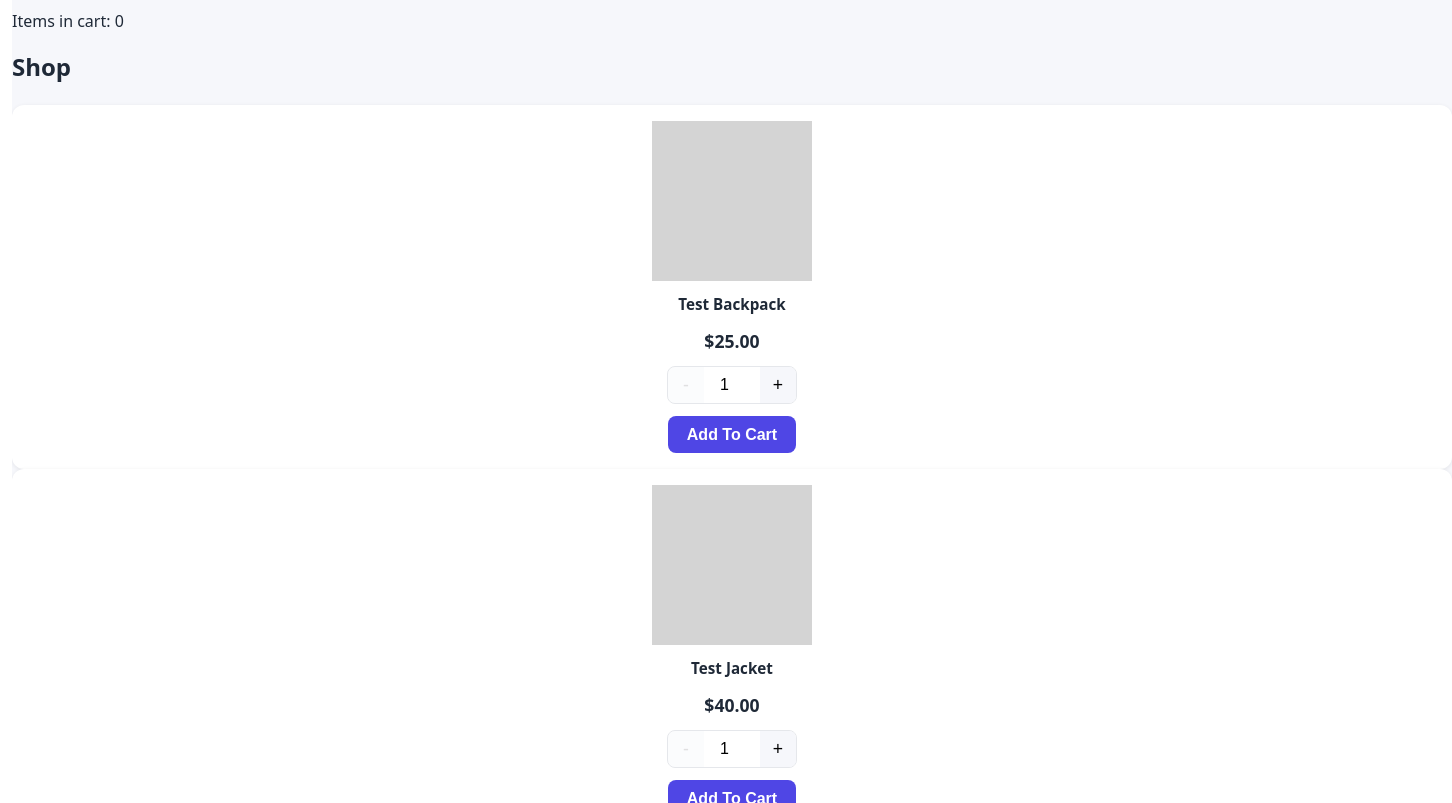
Shop page › adds products to the cart with the chosen quantity
The width and height of the screenshot is (1452, 803).
Check: the heading "Test Backpack" is shown, box [678,293,786,316]
Check: the text "Items in cart: 0" is shown, box [12,10,124,32]
Click the button "Add To Cart" below "25.00" at (732, 435), box [668,416,796,453]
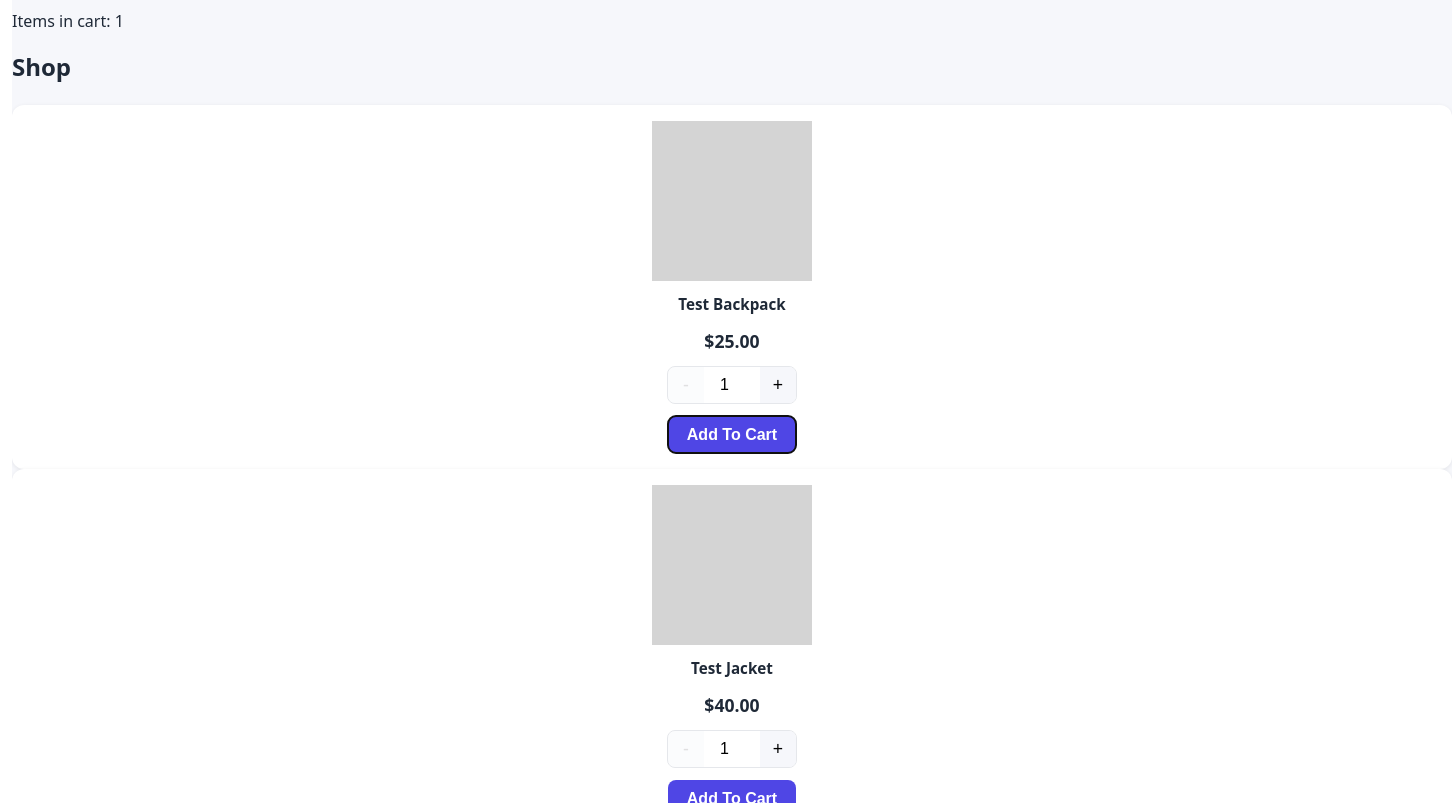
Check: the text "Items in cart: 1" is shown, box [12,10,124,32]
Click the button named "increase quantity" at (778, 750), box [760,732,796,768]
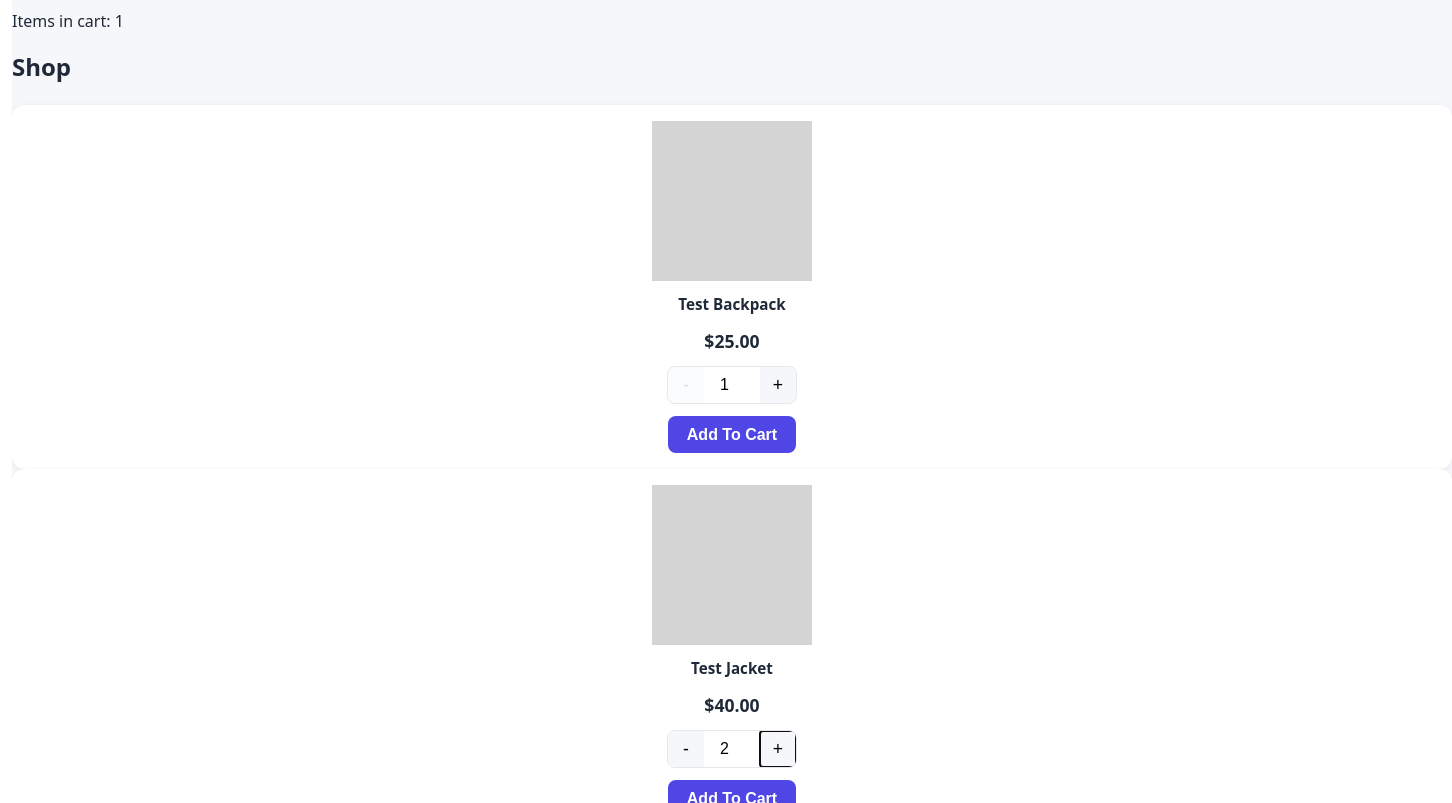
Click the button named "increase quantity" at (778, 750), box [760,732,796,768]
(page scrolled)
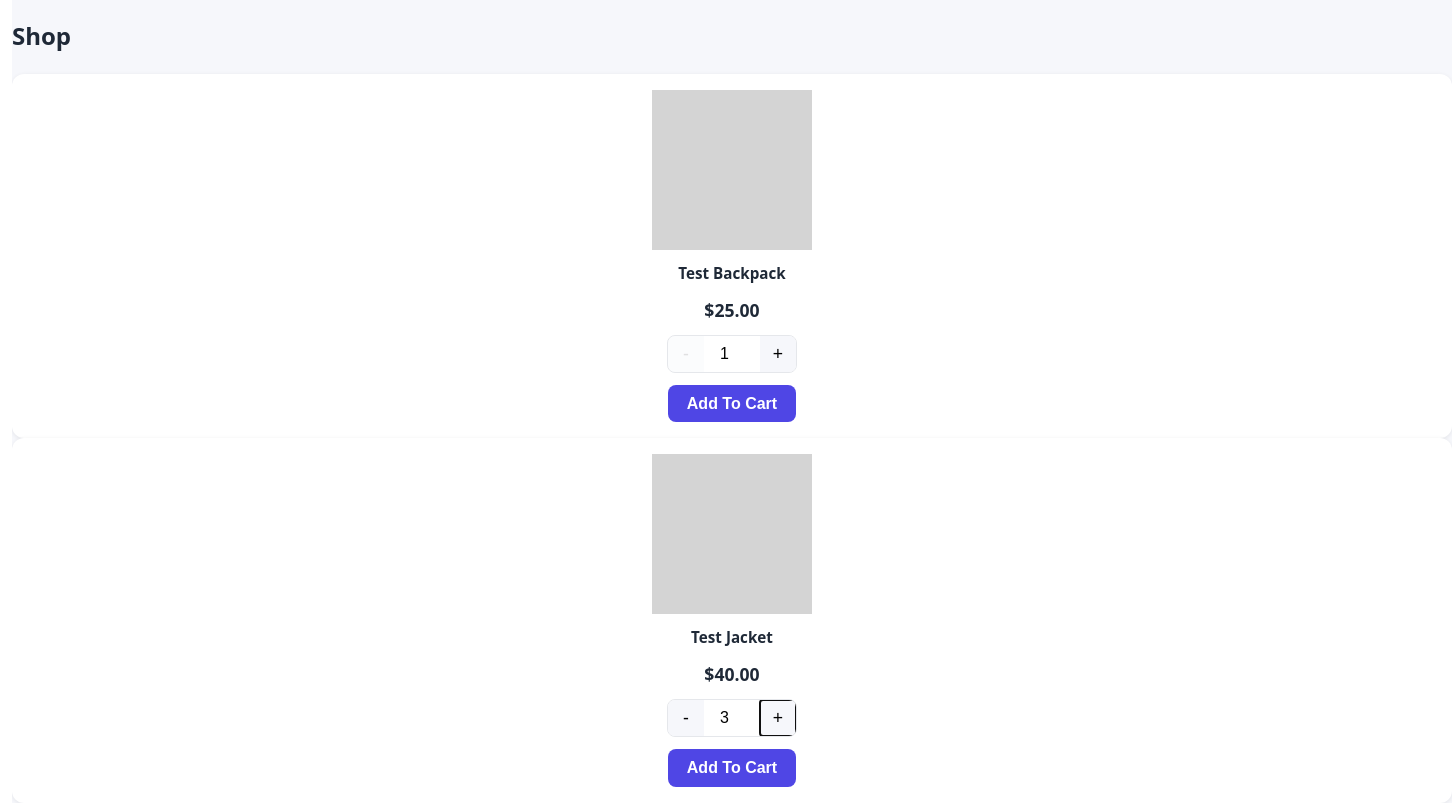
Click the button "Add To Cart" below "40.00" at (732, 768), box [668,750,796,787]
(page scrolled)
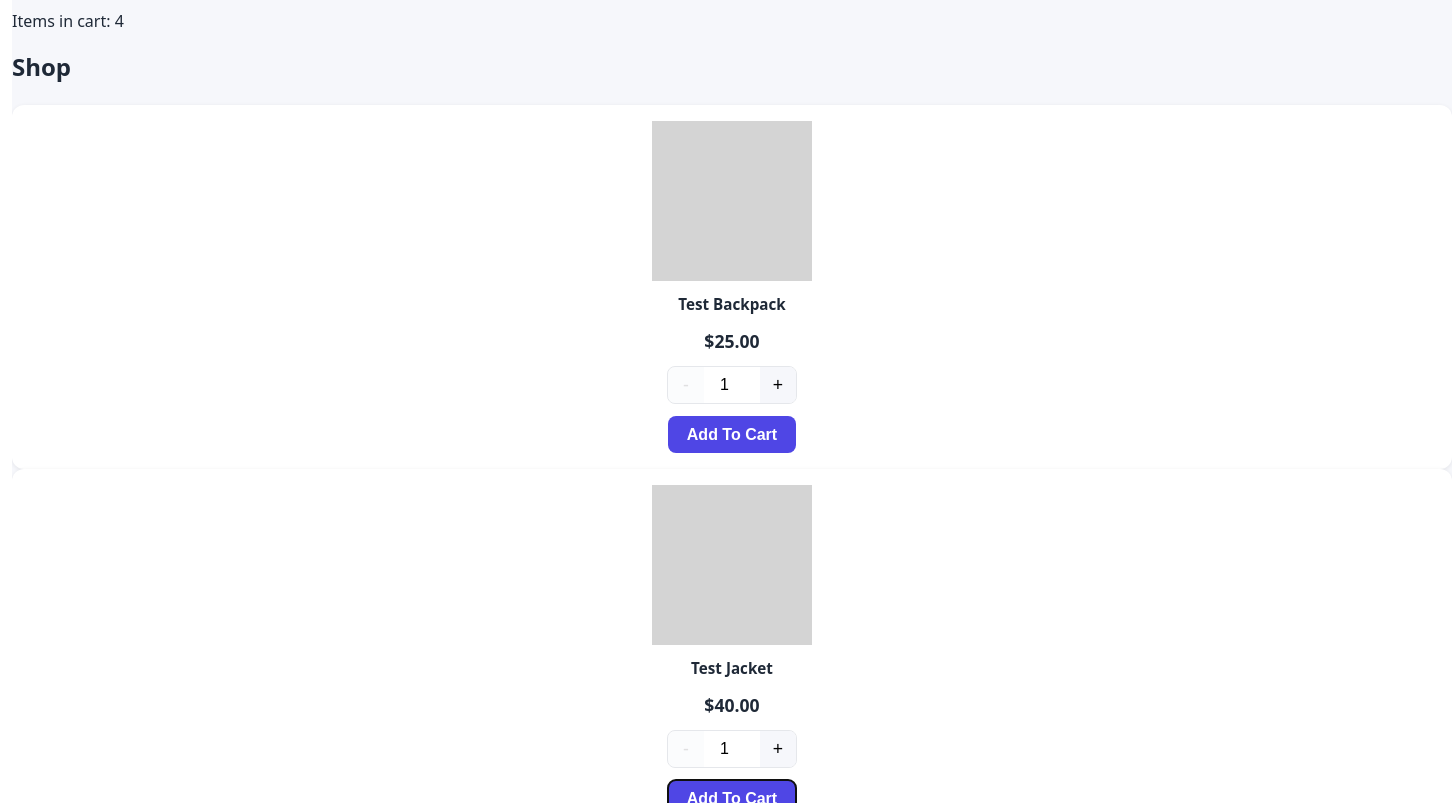
Check: the text "Items in cart: 4" is shown, box [12,10,124,32]
